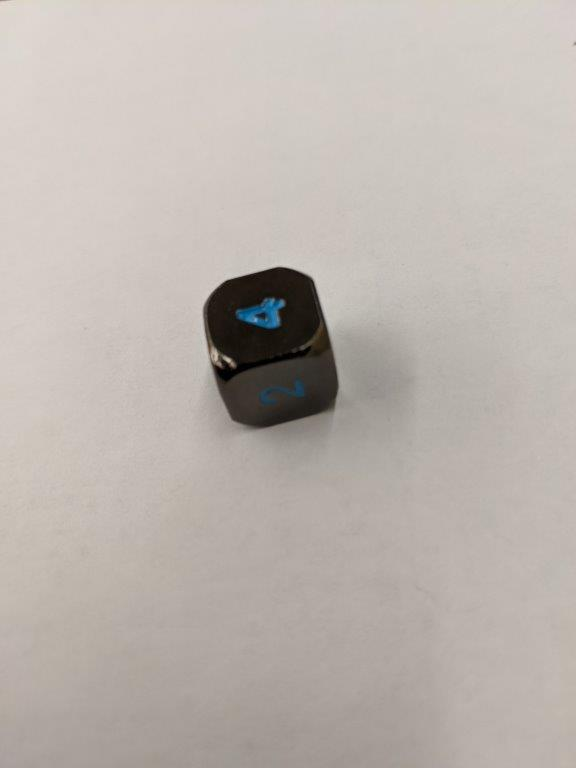d6-4: (204, 268, 340, 431)
